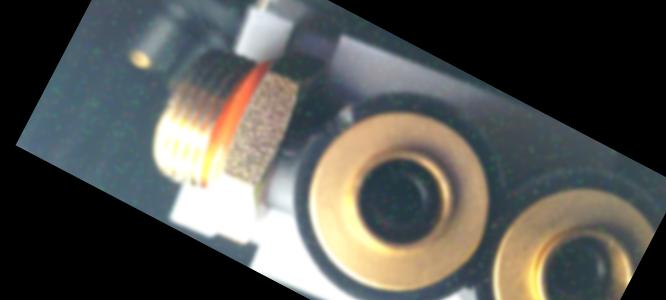bump: (307, 90, 364, 155)
white mark: (273, 142, 299, 167)
